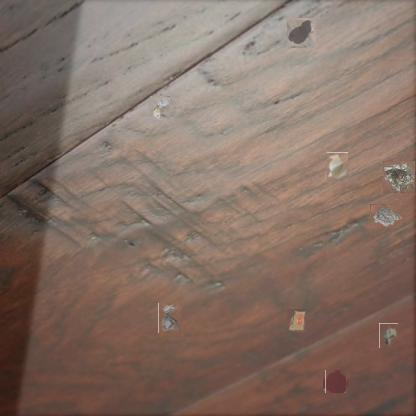dirty: (383, 161, 415, 193), (370, 204, 402, 228), (158, 303, 181, 333), (326, 152, 348, 181), (286, 308, 306, 332), (150, 96, 170, 120), (379, 323, 398, 348)
liquid: (288, 19, 316, 47), (324, 370, 347, 393)
